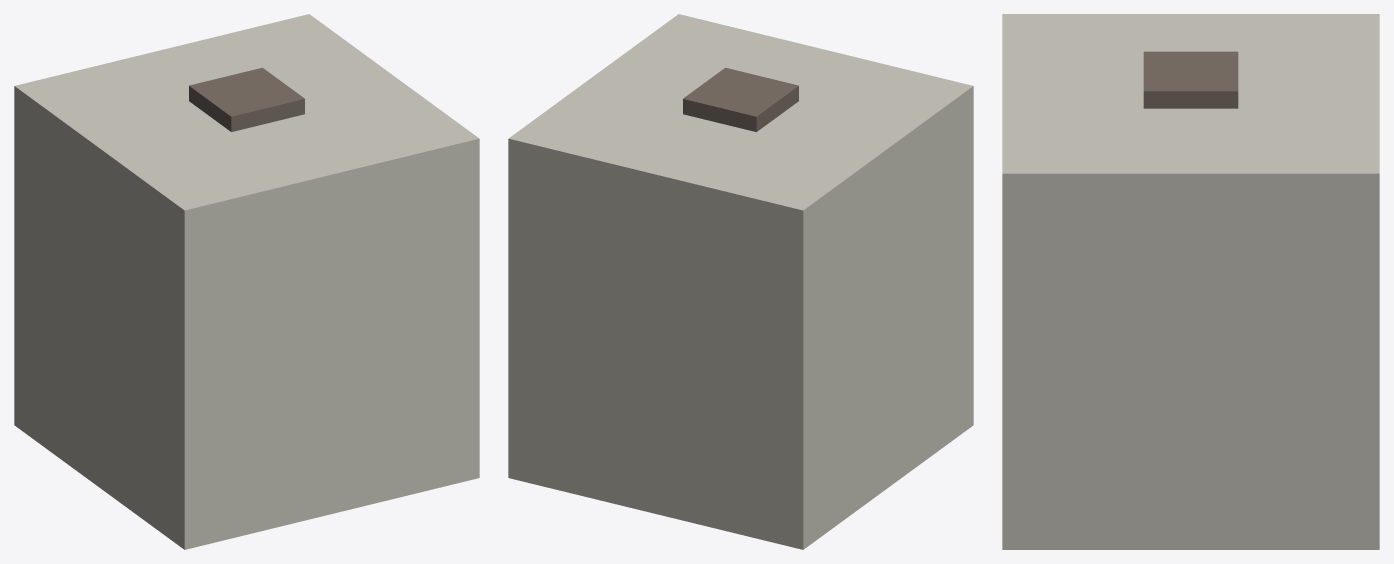
The model's file is toilet_paper_roll.glb.
3 views of the same model, side by side, from view 1: azimuth 30°, elevation 25°; view 2: azimuth 150°, elevation 25°; view 3: azimuth 270°, elevation 25° (orthographic). The views are drawn at different scales.
Parts seen in each view (by area): view 1: body; view 2: body; view 3: body.
Boxes of the visible parts, box(x1,y1,x2,y2) form: body: box(14, 14, 479, 549); body: box(508, 14, 973, 549); body: box(1002, 14, 1379, 549).
Size of the model in its own units: 0.1 by 0.1165 by 0.1.
